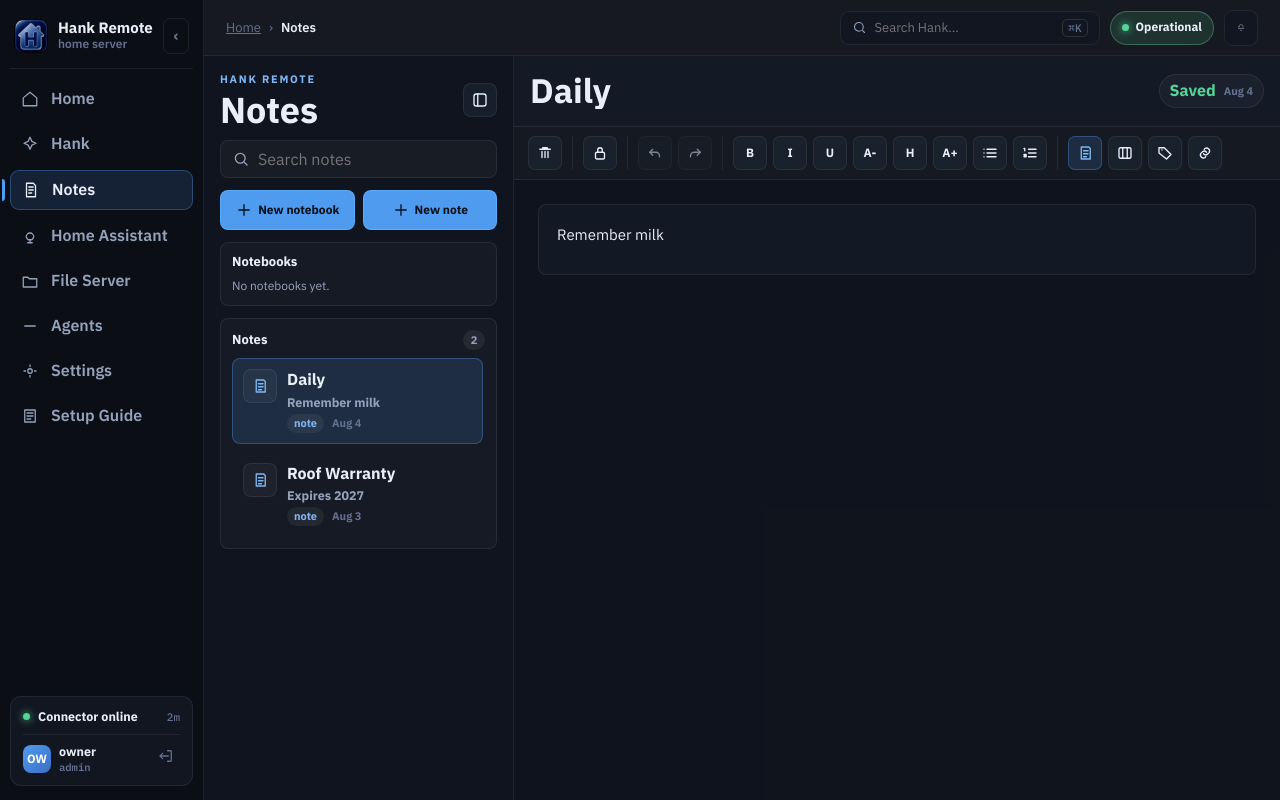
Test case: App routes › opens a global-search result inside an already mounted Notes tab
Expected: the field showing "Daily" is shown, [530,70,1148,112]
Type "Roof Warranty" into the search field named "Search" at (964,27), box [874,19,1054,36]
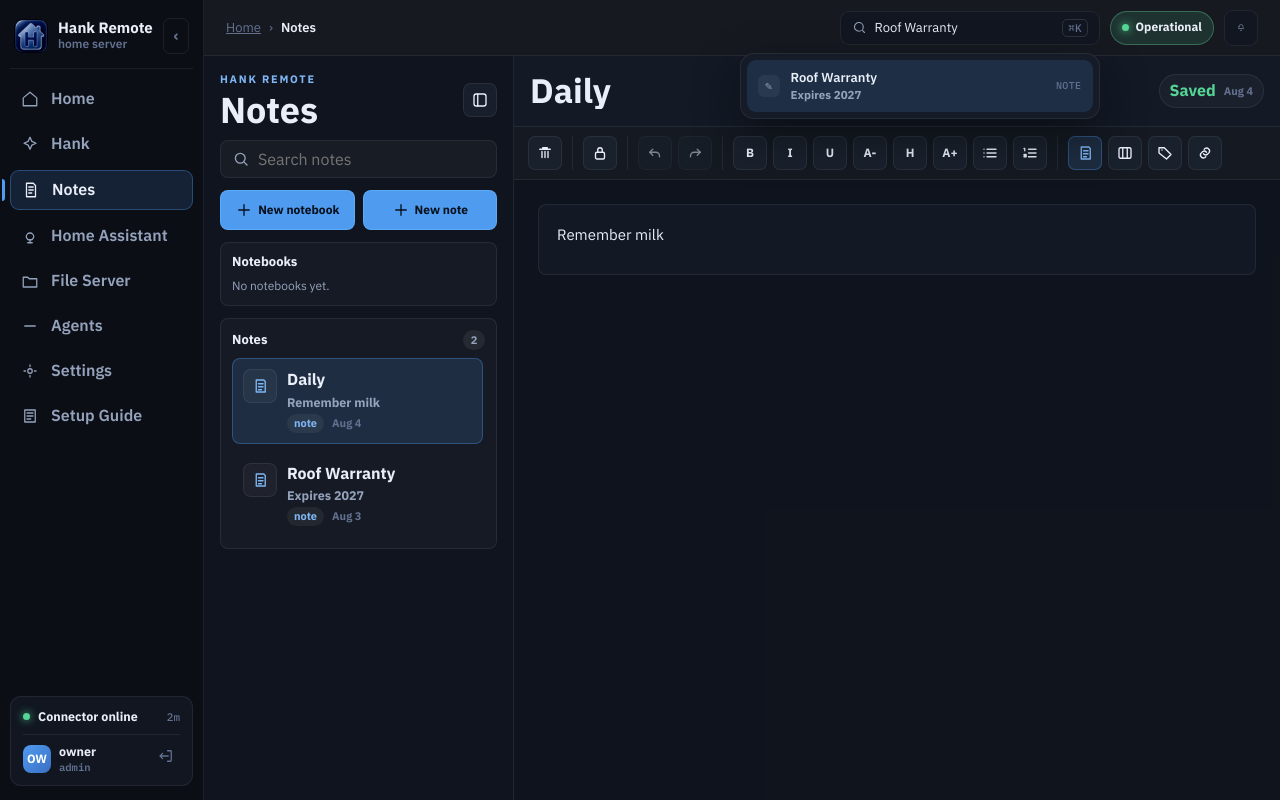
Press the mouse on the option "✎ Roof Warranty Expires 2027 note" at (834,77), box [746,60,1092,112]
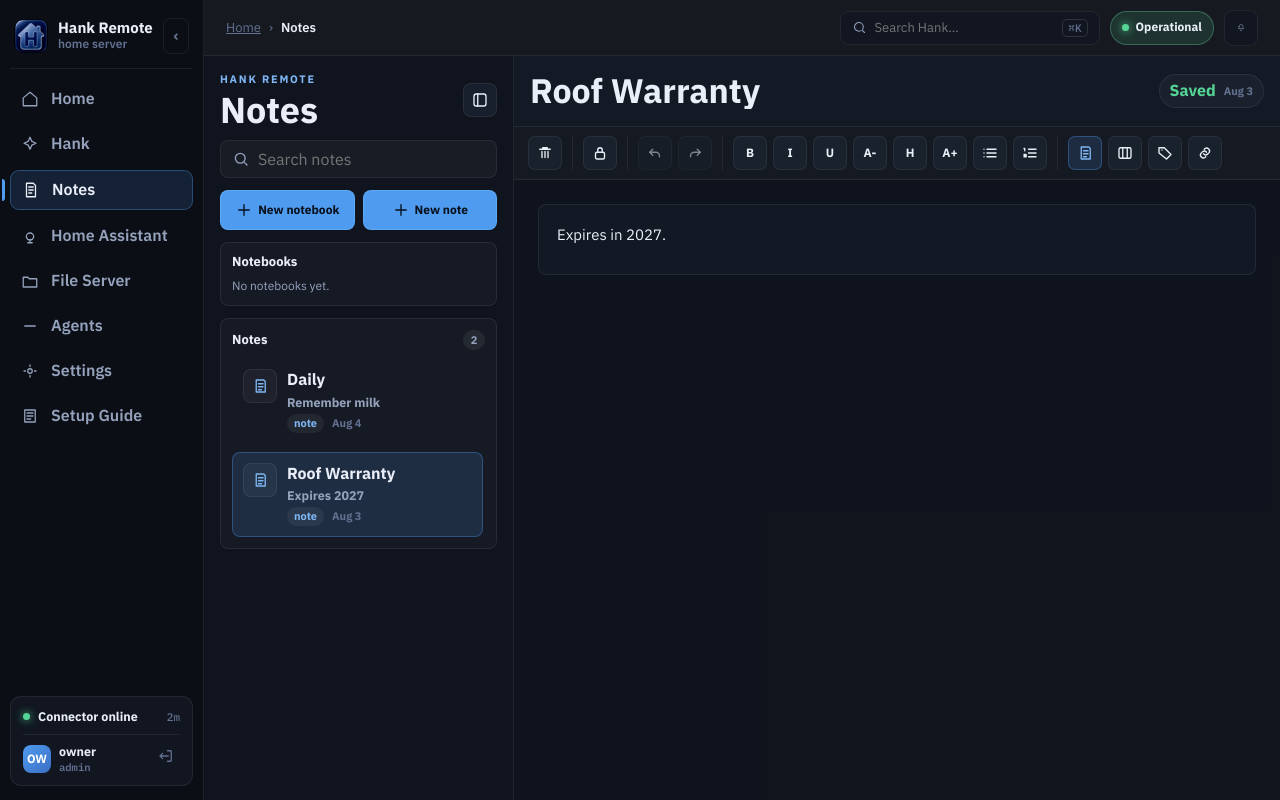
Result: the field showing "Roof Warranty" is shown at [530,70,1148,112]
